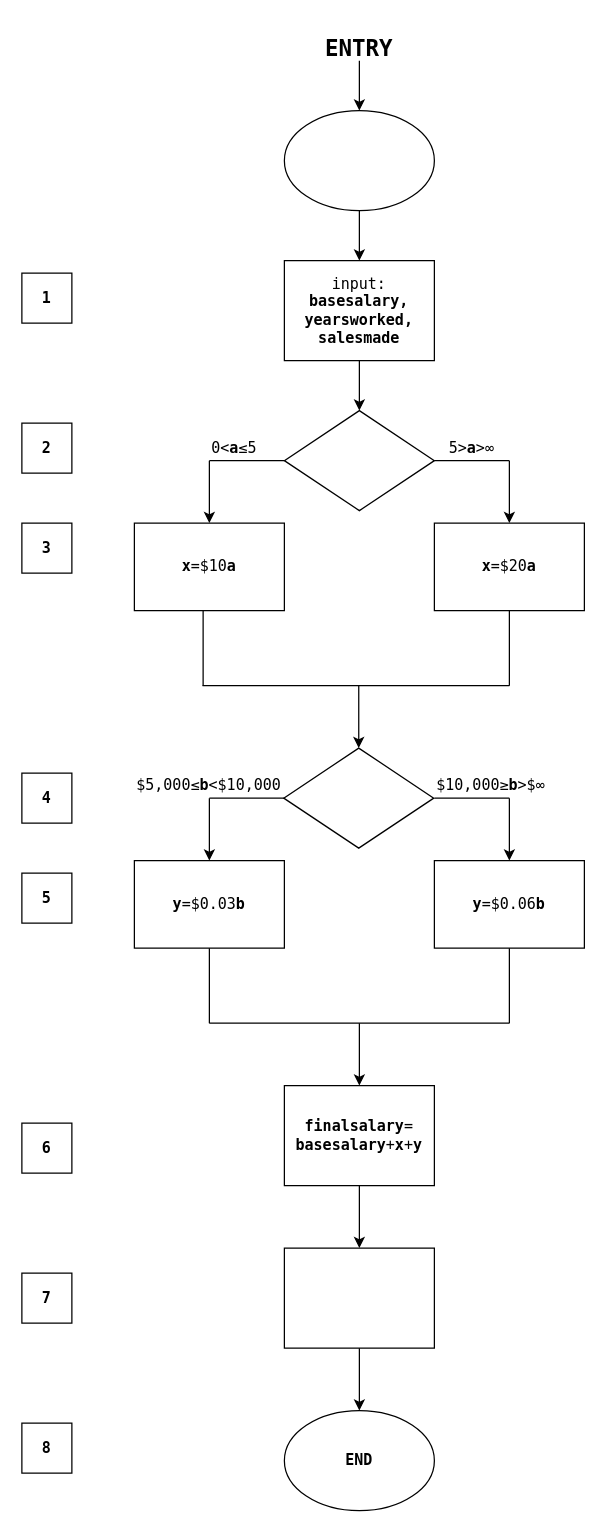
This 606x1533 diagram has some shape labels left out. The shapes that lost their labels are listed below. From the top down, each one's centre as x and y in pixels, then its label:
the point at 358,160: Algorithm to calculate the monthly paycheck of a salesperson
the point at 358,460: yearsworked(a)
the point at 358,797: salesmade(b)
the point at 358,1297: print finalsalary
